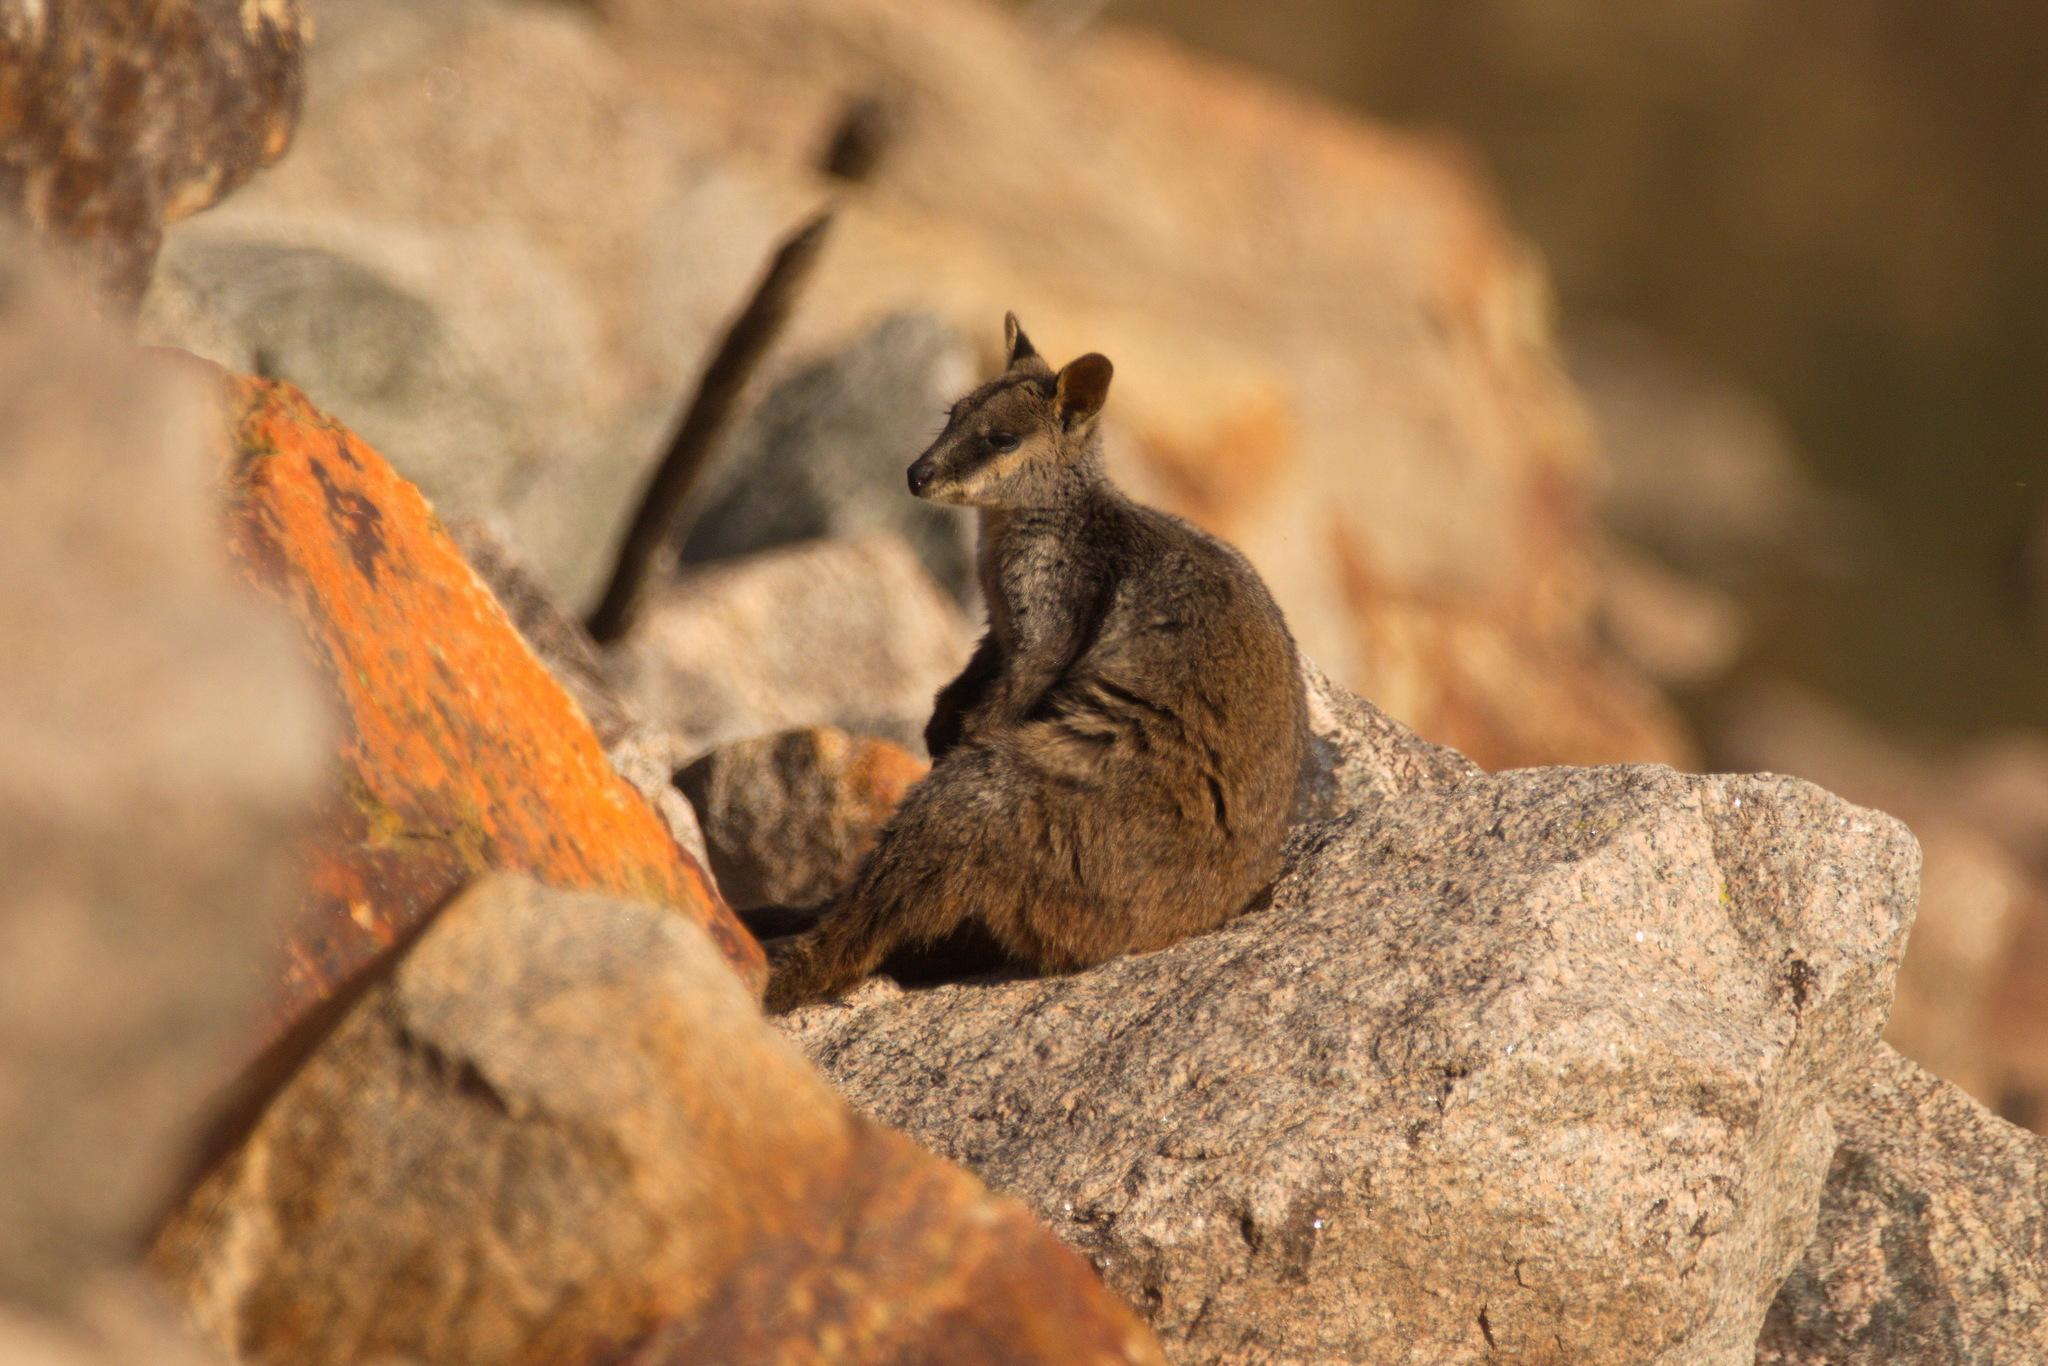Brush-tailed rock-wallaby: (730, 302, 1317, 1028)
